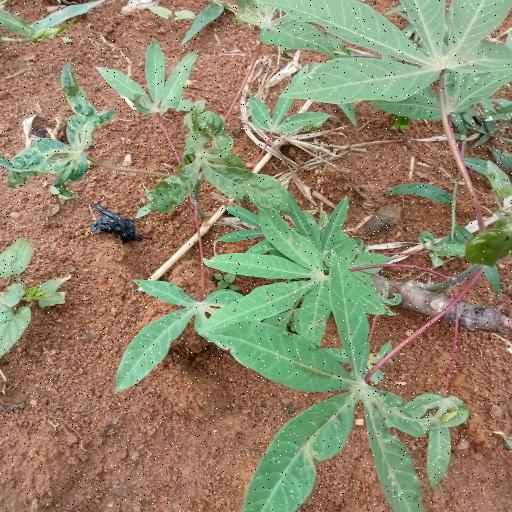Cassava_Mosaic: (212, 267, 425, 512), (273, 0, 512, 108), (15, 75, 114, 192)
